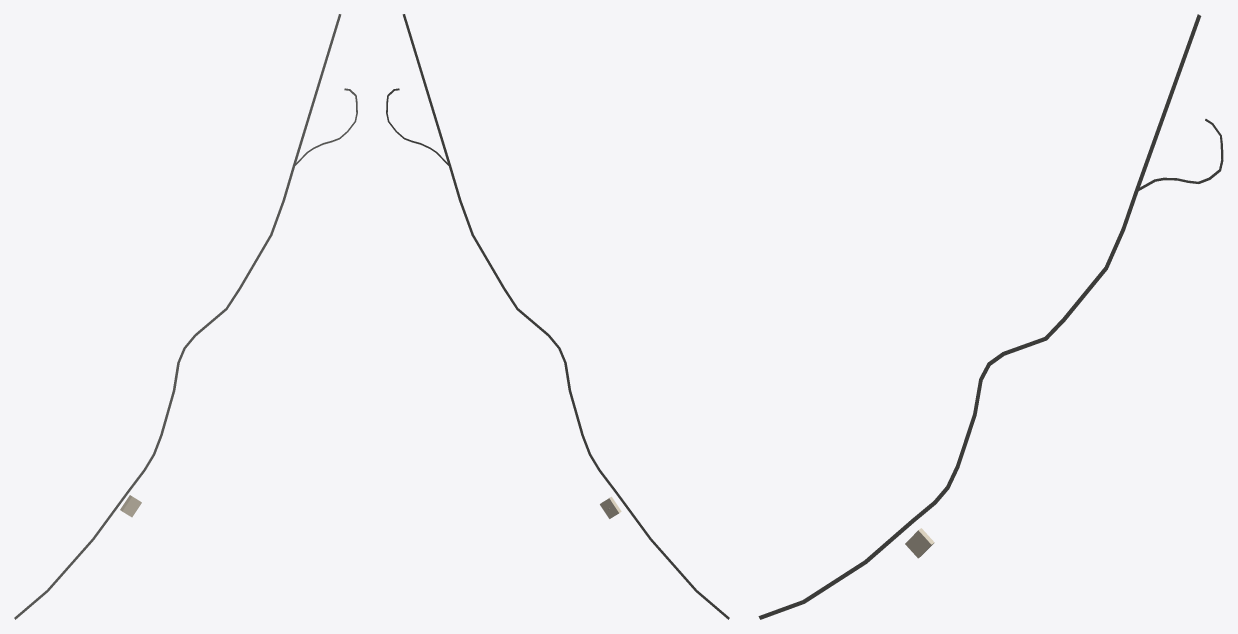
File: historic-palestine-09_26_3508_3200.glb
The picture shows the model from 3 angles, left to right: view 1: azimuth 30°, elevation 25°; view 2: azimuth 150°, elevation 25°; view 3: azimuth 330°, elevation 25°; orthographic projection. The views are drawn at different scales.
Visible parts, largest first — view 1: Road; view 2: Road; view 3: Road.
Boxes of the visible parts, x1,y1,x2,y2 form: Road: [14, 14, 341, 619]; Road: [402, 14, 729, 619]; Road: [758, 14, 1201, 619].
Size of the model in its own units: 636 by 931 by 8.7.
